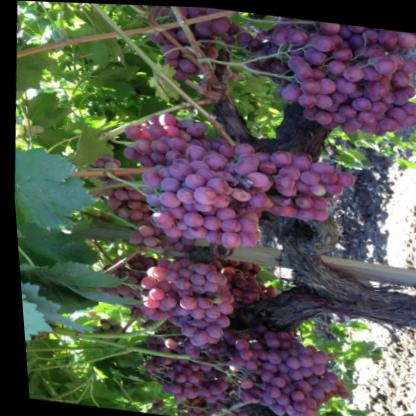--: (99, 107, 363, 261), (251, 11, 416, 148), (102, 246, 271, 351), (212, 328, 358, 416)
